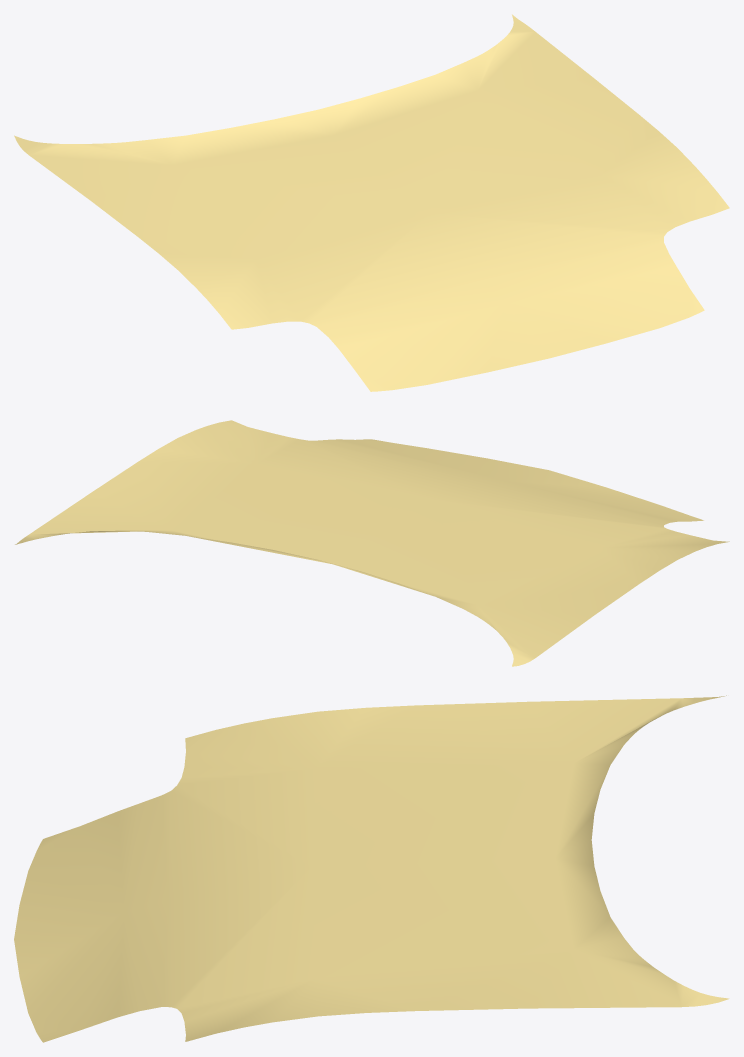
Rendered from RX7_Bonnet01_UnderTrim.fbx.
3 views of the same model, one above another, from view 1: azimuth 30°, elevation 25°; view 2: azimuth 150°, elevation 25°; view 3: azimuth 270°, elevation 25° (orthographic). The views are drawn at different scales.
Parts seen in each view (by area): view 1: RX7_Bonnet01_UnderTrim; view 2: RX7_Bonnet01_UnderTrim; view 3: RX7_Bonnet01_UnderTrim.
Part boxes in pixels (<box>): RX7_Bonnet01_UnderTrim: <box>14,14,729,391</box>; RX7_Bonnet01_UnderTrim: <box>15,420,729,666</box>; RX7_Bonnet01_UnderTrim: <box>14,695,729,1042</box>.
Size of the model in its own units: 139 by 21.43 by 136.
